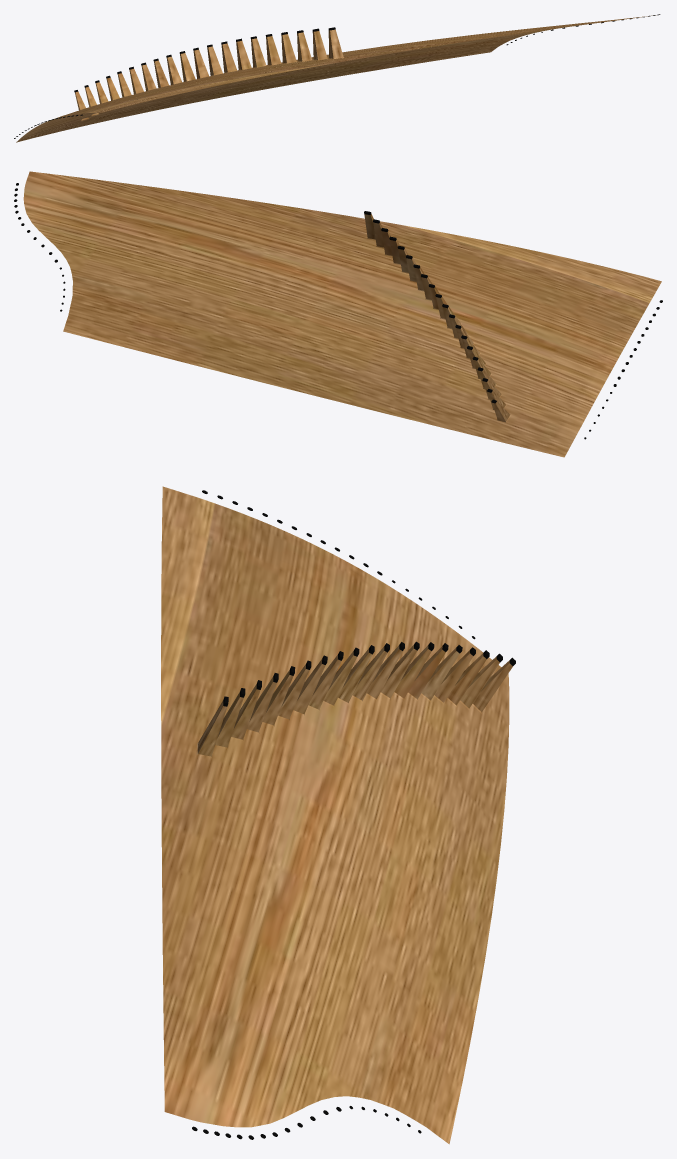
File: 面板及筝柱.FBX
The picture shows the model from 3 angles, top to bottom: view 1: azimuth 30°, elevation 25°; view 2: azimuth 150°, elevation 25°; view 3: azimuth 270°, elevation 25°; orthographic projection. The views are drawn at different scales.
Visible parts, largest first — view 1: 面板 (×2); view 2: 面板 (×2); view 3: 面板 (×2).
Boxes of the visible parts, bbox=[...] form: 面板 (×2): bbox=[14, 14, 660, 142]; 面板 (×2): bbox=[14, 171, 662, 457]; 面板 (×2): bbox=[161, 486, 515, 1144].
Bounding box in the file's own units: 1021 × 198 × 270.
Materials: 2 (1 with a texture image).
